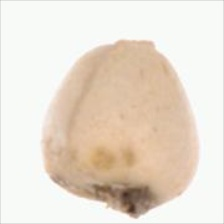L3: (98, 36, 158, 51)
L4: (43, 39, 200, 216)
